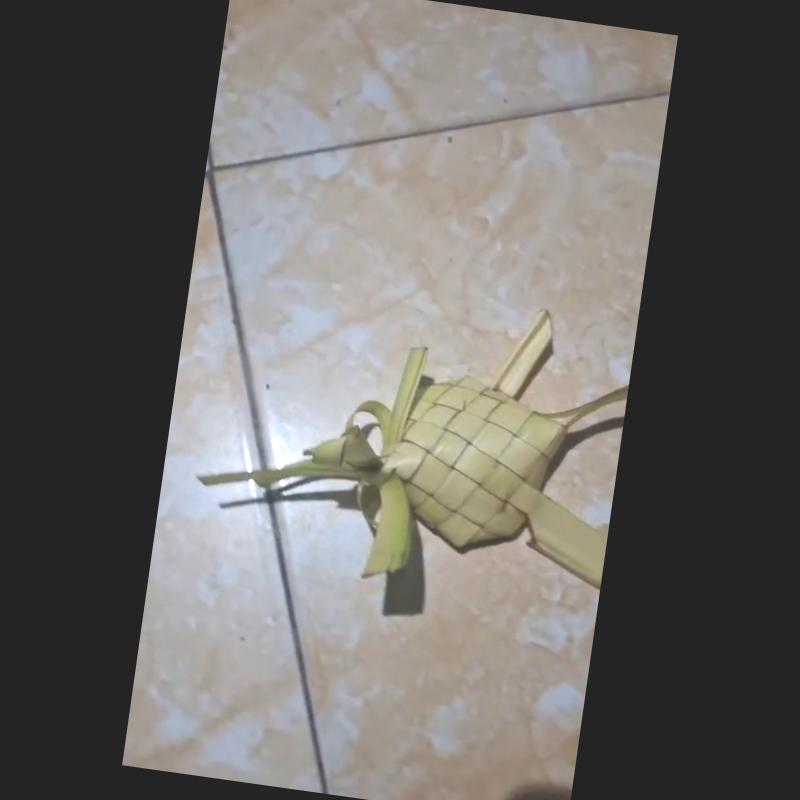Tipat Dampulan: (182, 301, 628, 589)
